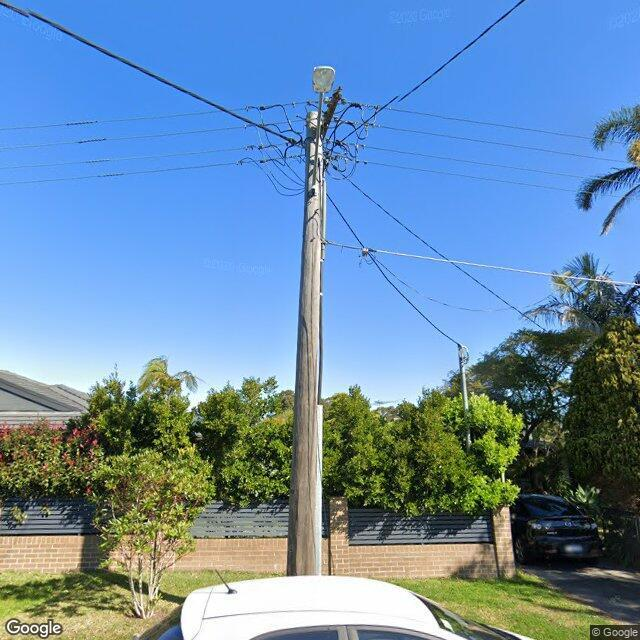crossarm: (319, 88, 342, 142)
steel-pole: (459, 347, 472, 451)
streetlight: (310, 64, 336, 193)
timber-pole: (288, 108, 324, 576)
